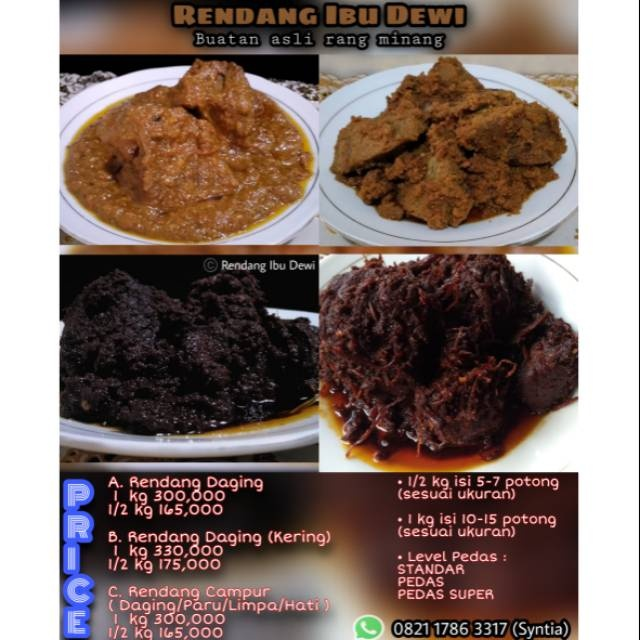rendang: (326, 266, 565, 459), (79, 55, 297, 237), (60, 273, 303, 433), (345, 58, 560, 226)
